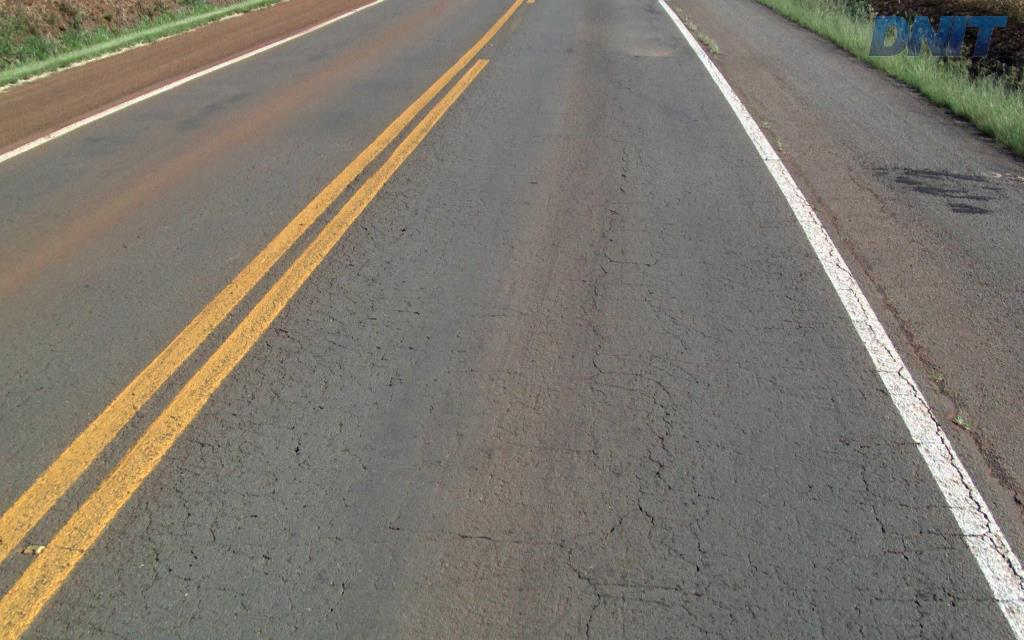crack: (566, 547, 612, 639), (612, 570, 688, 596), (706, 596, 767, 626)
